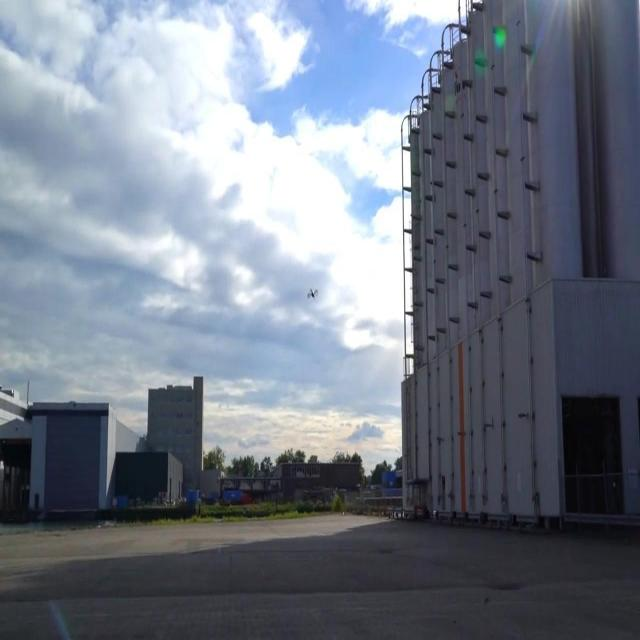drone: (306, 285, 320, 302)
